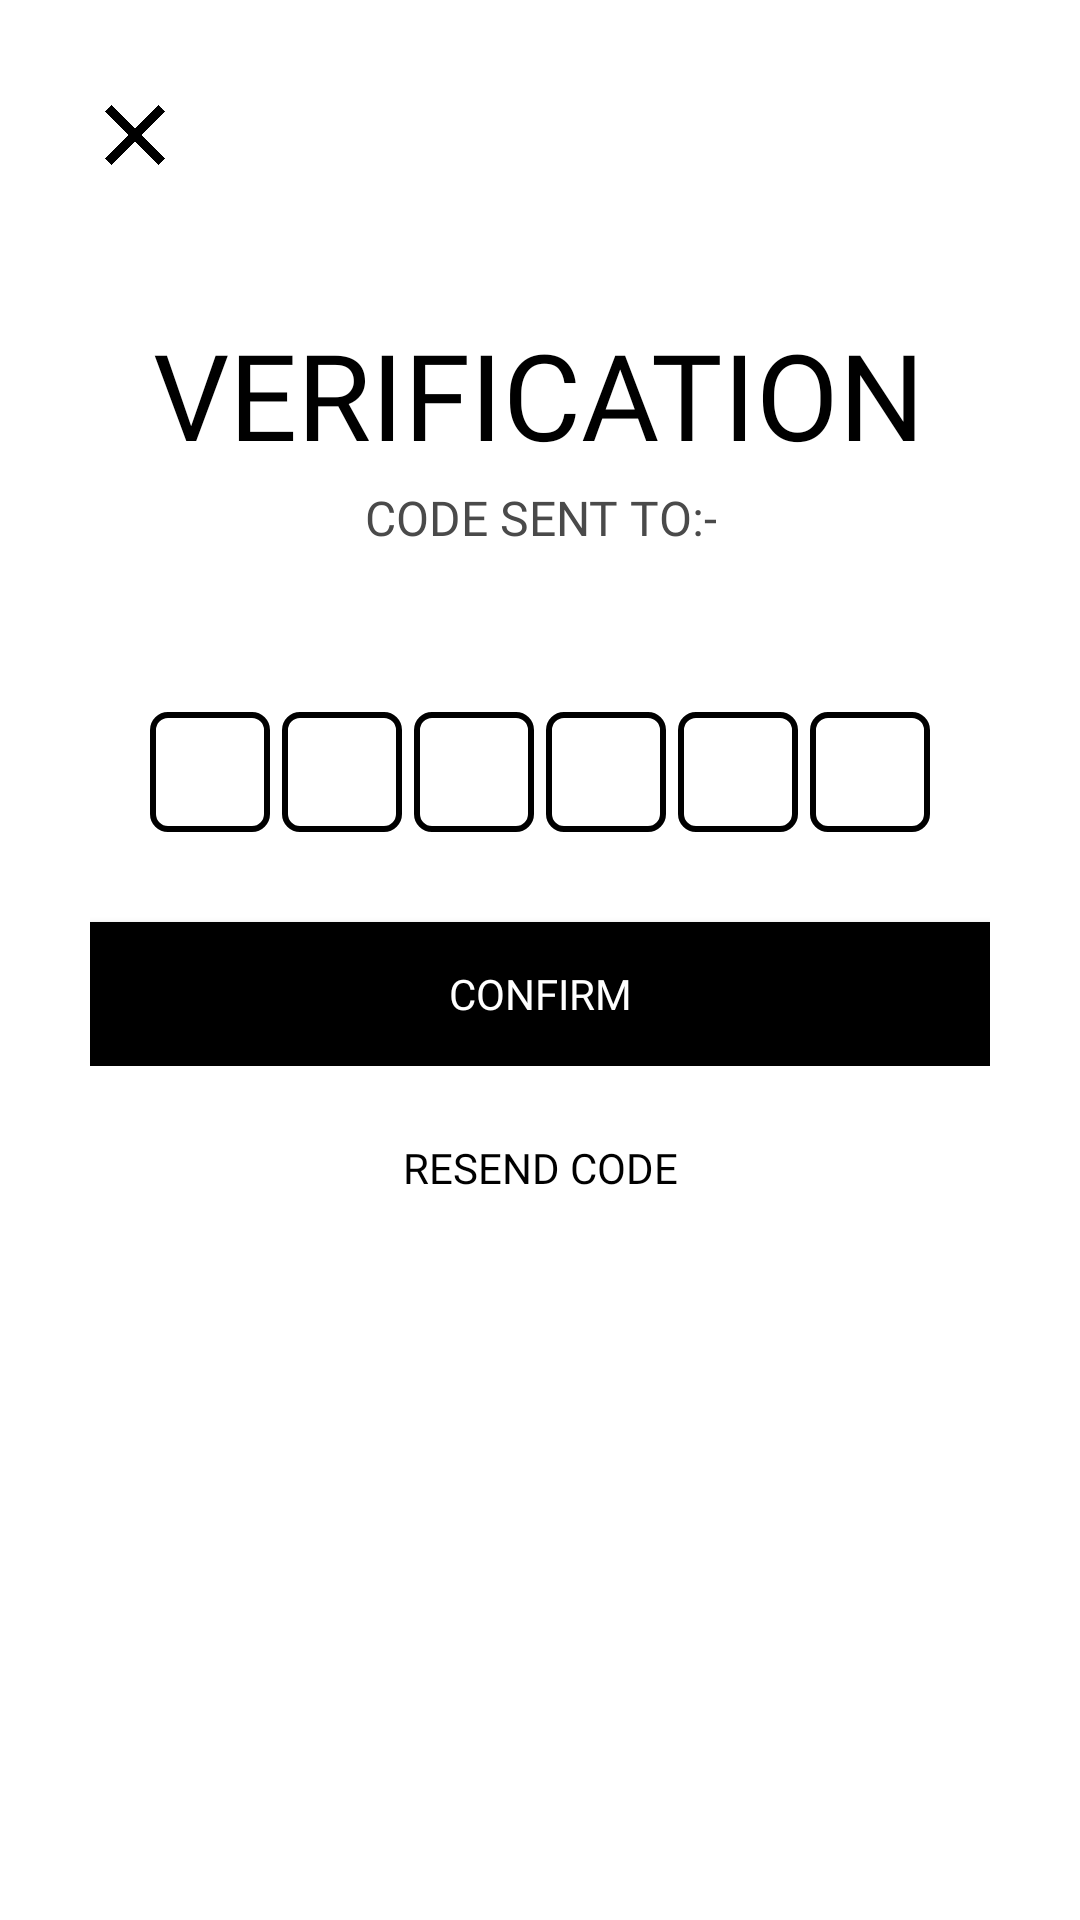

Icons on this 1080px x 1920px Android screen, each with the point to tap as point (x, y):
cross: point (135, 135)
